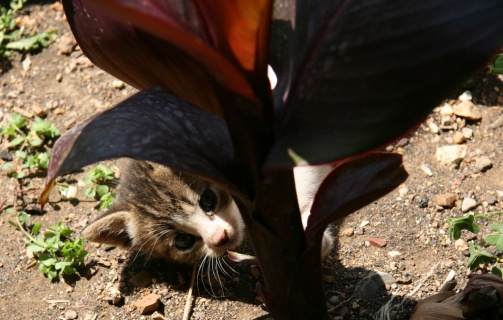Cat: (79, 155, 243, 295)
